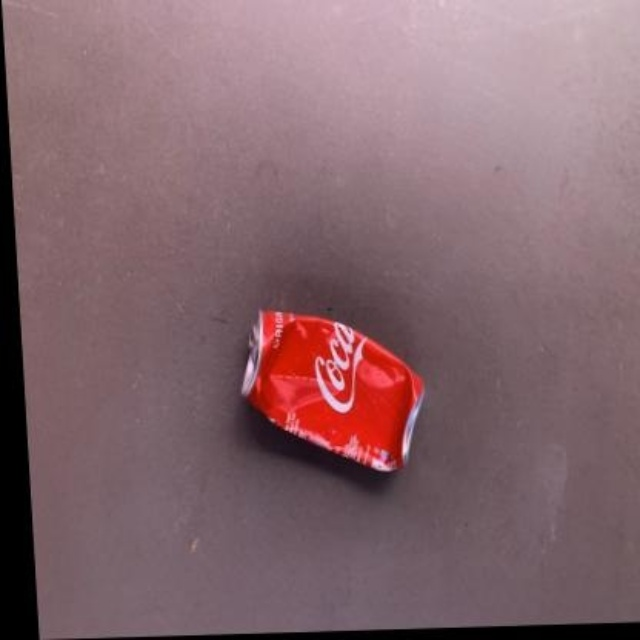trash: (242, 311, 423, 471)
